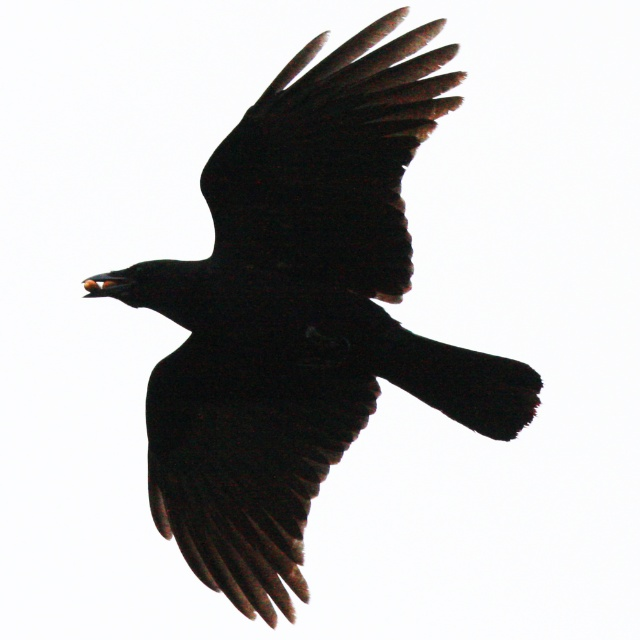Eagle: (81, 6, 545, 631)
